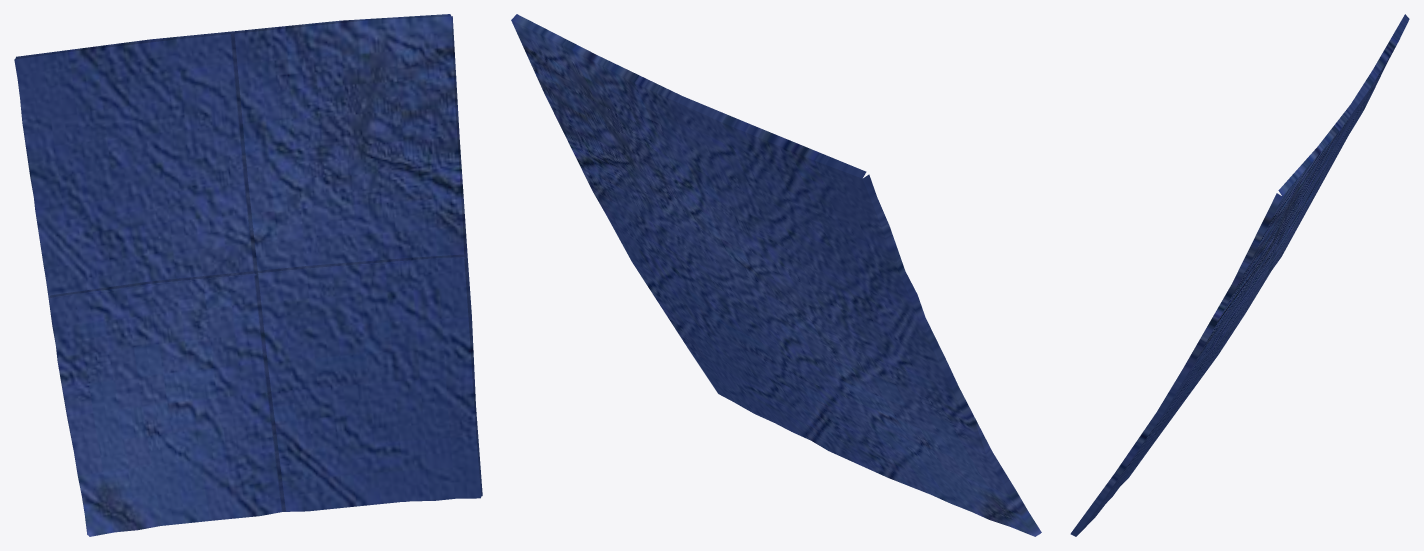
The picture shows the model from 3 angles, left to right: view 1: azimuth 30°, elevation 25°; view 2: azimuth 150°, elevation 25°; view 3: azimuth 270°, elevation 25°; orthographic projection. The views are drawn at different scales.
Bounding box in the file's own units: 1237855 × 1116340 × 899028.
1 material, 1 textured.
